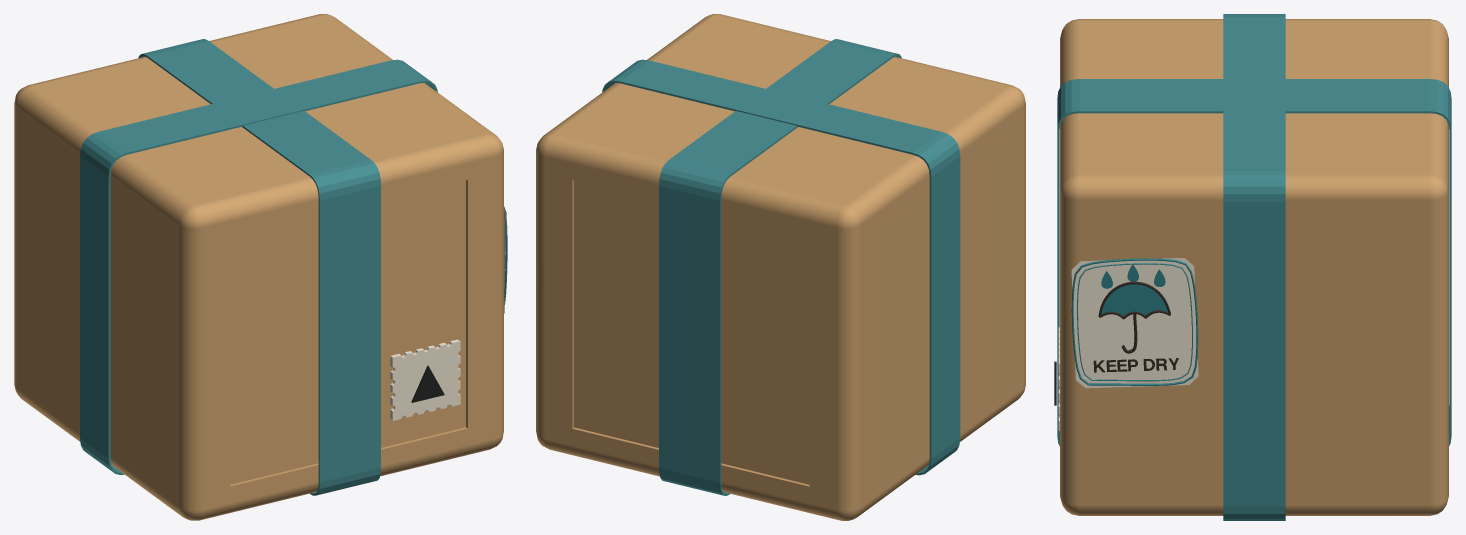
Rendered from play-parcel-small-teal.glb.
3 renders of one model, left to right at view 1: azimuth 30°, elevation 25°; view 2: azimuth 150°, elevation 25°; view 3: azimuth 270°, elevation 25°, orthographic. The views are drawn at different scales.
Parts seen in each view (by area): view 1: Parcel_Carton, Parcel_Tape_Continuous_Front_Back, Parcel_Tape_Continuous_Left_Right, Parcel_Paper_Label, Parcel_Label_Triangle; view 2: Parcel_Carton, Parcel_Tape_Continuous_Front_Back, Parcel_Tape_Continuous_Left_Right; view 3: Parcel_Carton, Parcel_Tape_Continuous_Left_Right, Parcel_Tape_Continuous_Front_Back, Parcel_Care_D3_Paper, Parcel_Care_D3_Umbrella_Canopy, Parcel_Care_D3_Teal_Border_0, Parcel_Care_D3_Teal_Border_1, Parcel_Care_D3_Keep_Dry_Text, Parcel_Care_D3_Umbrella_Outline.
Part boxes in pixels (x1,y1,x2,y2): Parcel_Carton: (14, 14, 503, 520); Parcel_Tape_Continuous_Front_Back: (138, 39, 380, 495); Parcel_Tape_Continuous_Left_Right: (80, 59, 437, 474); Parcel_Paper_Label: (390, 339, 460, 420); Parcel_Label_Triangle: (411, 365, 444, 402); Parcel_Carton: (536, 14, 1025, 520); Parcel_Tape_Continuous_Front_Back: (659, 39, 901, 495); Parcel_Tape_Continuous_Left_Right: (602, 59, 960, 475); Parcel_Carton: (1060, 19, 1448, 515); Parcel_Tape_Continuous_Left_Right: (1223, 14, 1285, 520); Parcel_Tape_Continuous_Front_Back: (1057, 79, 1451, 446); Parcel_Care_D3_Paper: (1071, 258, 1198, 388); Parcel_Care_D3_Umbrella_Canopy: (1101, 284, 1167, 316); Parcel_Care_D3_Teal_Border_0: (1071, 258, 1198, 385); Parcel_Care_D3_Teal_Border_1: (1077, 263, 1192, 381); Parcel_Care_D3_Keep_Dry_Text: (1093, 358, 1178, 372); Parcel_Care_D3_Umbrella_Outline: (1098, 281, 1170, 319).
Bounding box in the file's own units: 0.1483 × 0.138 × 0.1431.
